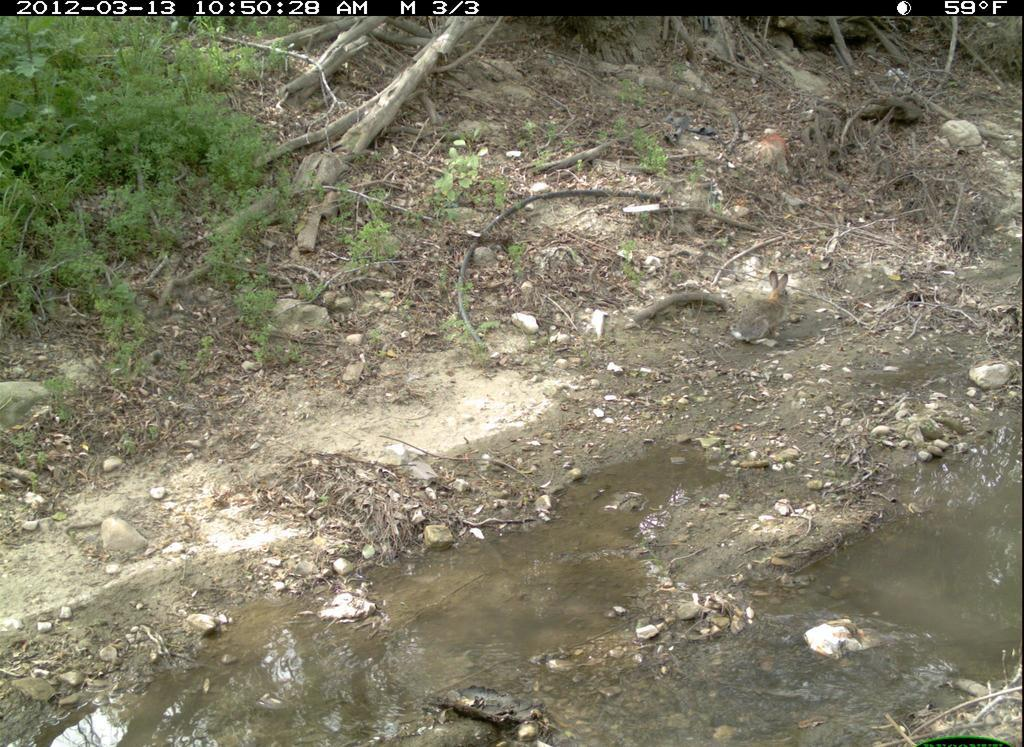rabbit: (729, 265, 803, 359)
